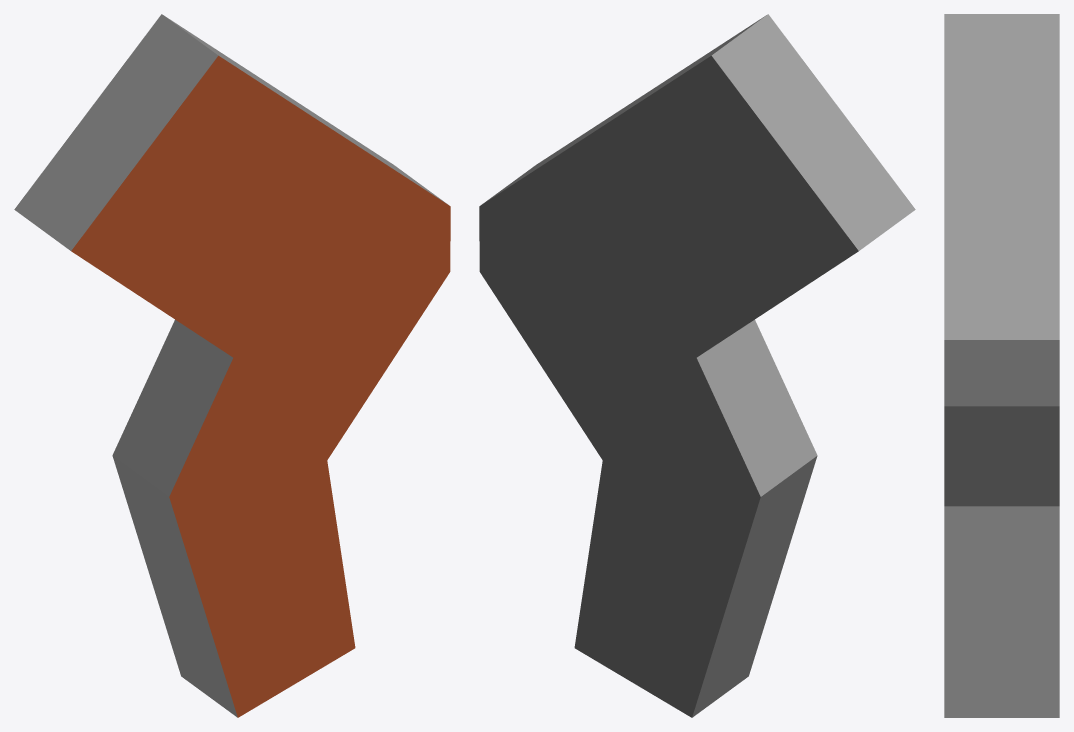
File: construction_1537_assumed_A_Casa_h6m.obj
3 renders of one model, left to right at view 1: azimuth 30°, elevation 25°; view 2: azimuth 150°, elevation 25°; view 3: azimuth 270°, elevation 25°, orthographic.
Parts seen in each view (by area): view 1: construction_1537_assumed_A_Casa; view 2: construction_1537_assumed_A_Casa; view 3: construction_1537_assumed_A_Casa.
Part boxes in pixels (x1,y1,x2,y2): construction_1537_assumed_A_Casa: (14,14,450,717); construction_1537_assumed_A_Casa: (479,14,915,717); construction_1537_assumed_A_Casa: (944,14,1059,717).
Bounding box in the file's own units: 23.15 × 38.87 × 6.
